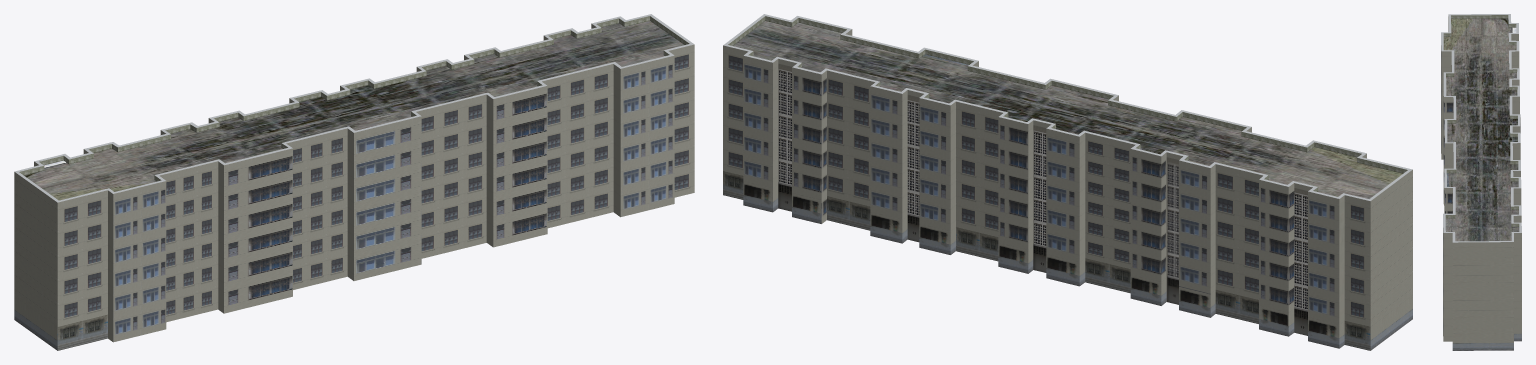
3 renders of one model, left to right at view 1: azimuth 30°, elevation 25°; view 2: azimuth 150°, elevation 25°; view 3: azimuth 270°, elevation 25°, orthographic. The views are drawn at different scales.
Parts seen in each view (by area): view 1: jz5; view 2: jz5; view 3: jz5.
Boxes of the visible parts, x1,y1,x2,y2 form: jz5: [14, 14, 694, 350]; jz5: [723, 14, 1412, 350]; jz5: [1441, 14, 1521, 350].
Bounding box in the file's own units: 8320 × 1841 × 1244.
11 materials, 11 textured.
